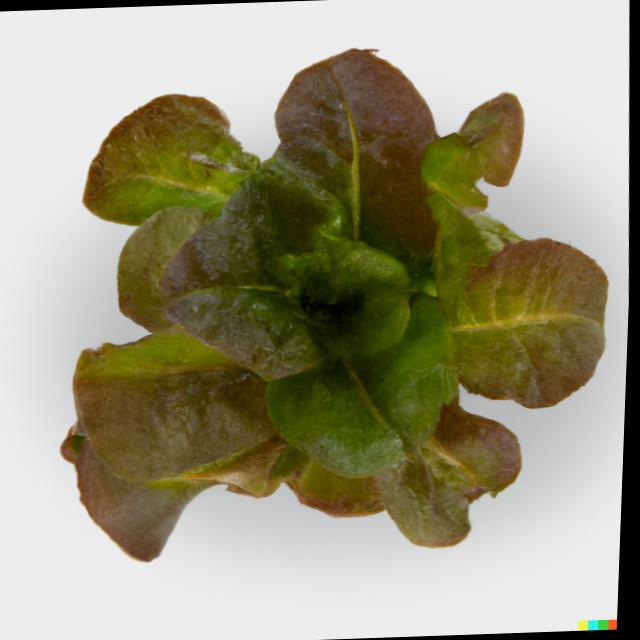-P: (28, 30, 632, 576)
